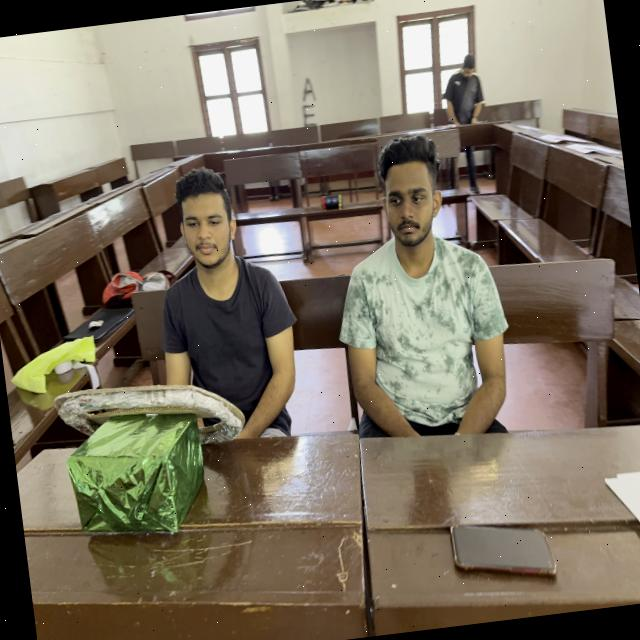no-seatbelt: (336, 232, 522, 488), (156, 254, 314, 472)
